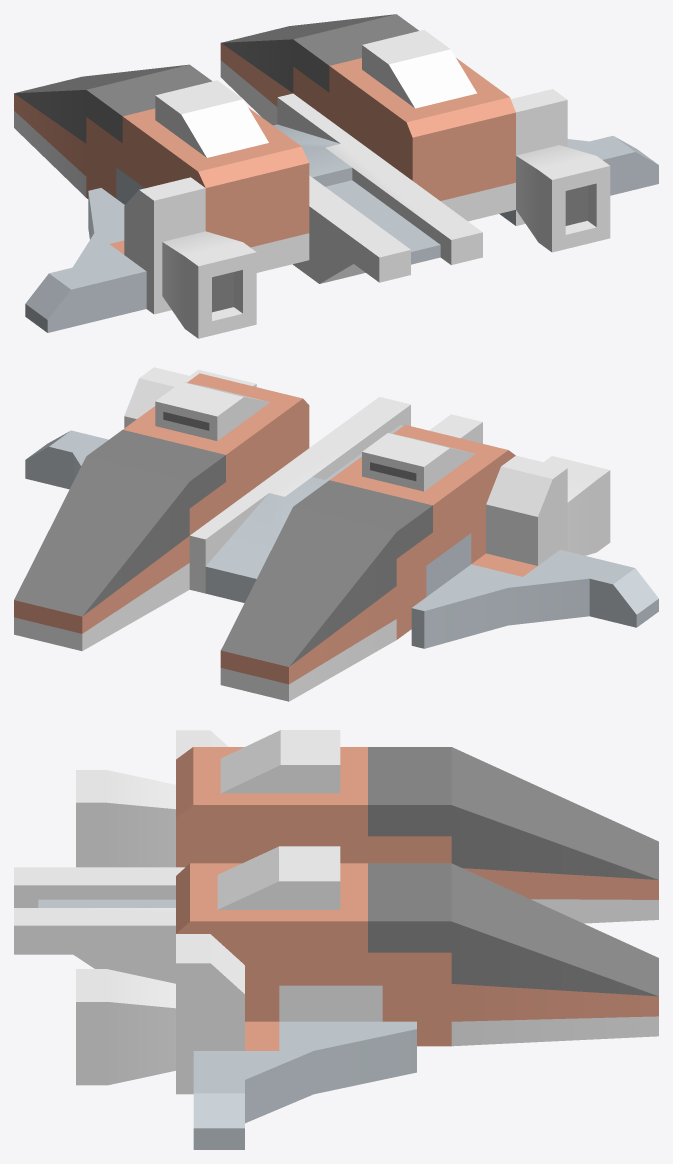
Rendered from spaceCraft6.glb.
The picture shows the model from 3 angles, top to bottom: view 1: azimuth 30°, elevation 25°; view 2: azimuth 150°, elevation 25°; view 3: azimuth 270°, elevation 25°; orthographic projection. The views are drawn at different scales.
Visible parts, largest first — view 1: spaceCraft6_8angles; view 2: spaceCraft6_8angles; view 3: spaceCraft6_8angles.
Boxes of the visible parts, x1=… form: spaceCraft6_8angles: x1=14, y1=14, x2=658, y2=338; spaceCraft6_8angles: x1=14, y1=367, x2=658, y2=701; spaceCraft6_8angles: x1=14, y1=730, x2=658, y2=1149.
Size of the model in its own units: 23.35 by 5.45 by 18.5.
